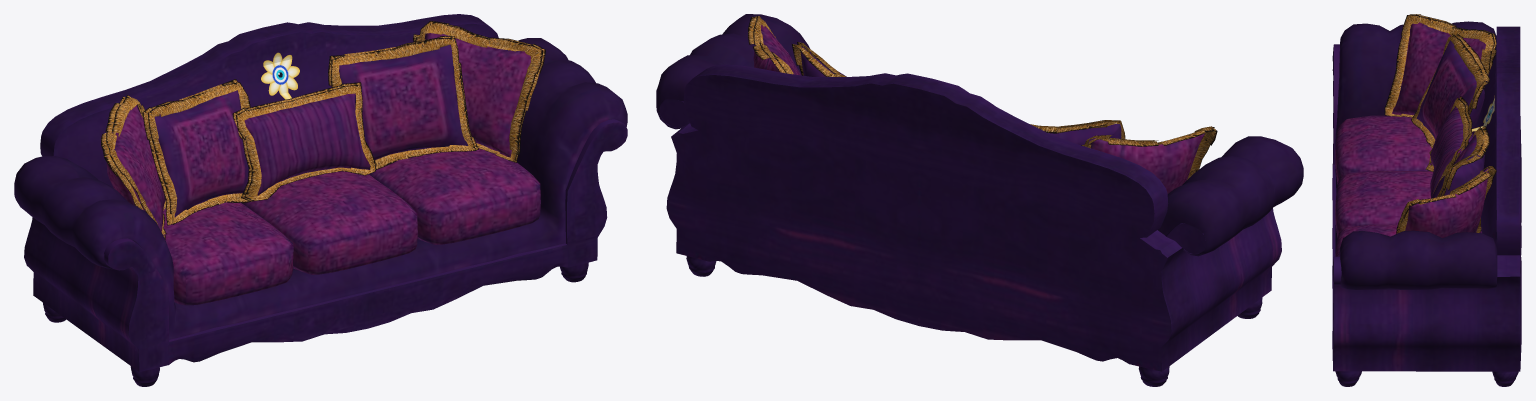
The model's file is nyb_disco_sofa.glb.
3 renders of one model, left to right at view 1: azimuth 30°, elevation 25°; view 2: azimuth 150°, elevation 25°; view 3: azimuth 270°, elevation 25°, orthographic. The views are drawn at different scales.
Visible parts, largest first — view 1: sofa_03, stk_eyeflower_gold.png; view 2: sofa_03; view 3: sofa_03, stk_eyeflower_gold.png.
Part boxes in pixels (x1,y1,x2,y2): sofa_03: [14, 14, 627, 386]; stk_eyeflower_gold.png: [261, 52, 299, 99]; sofa_03: [656, 14, 1303, 386]; sofa_03: [1332, 14, 1521, 386]; stk_eyeflower_gold.png: [1472, 95, 1494, 131].
Bounding box in the file's own units: 2.73 × 1.12 × 0.9251.
Materials: 3 (3 with a texture image).
